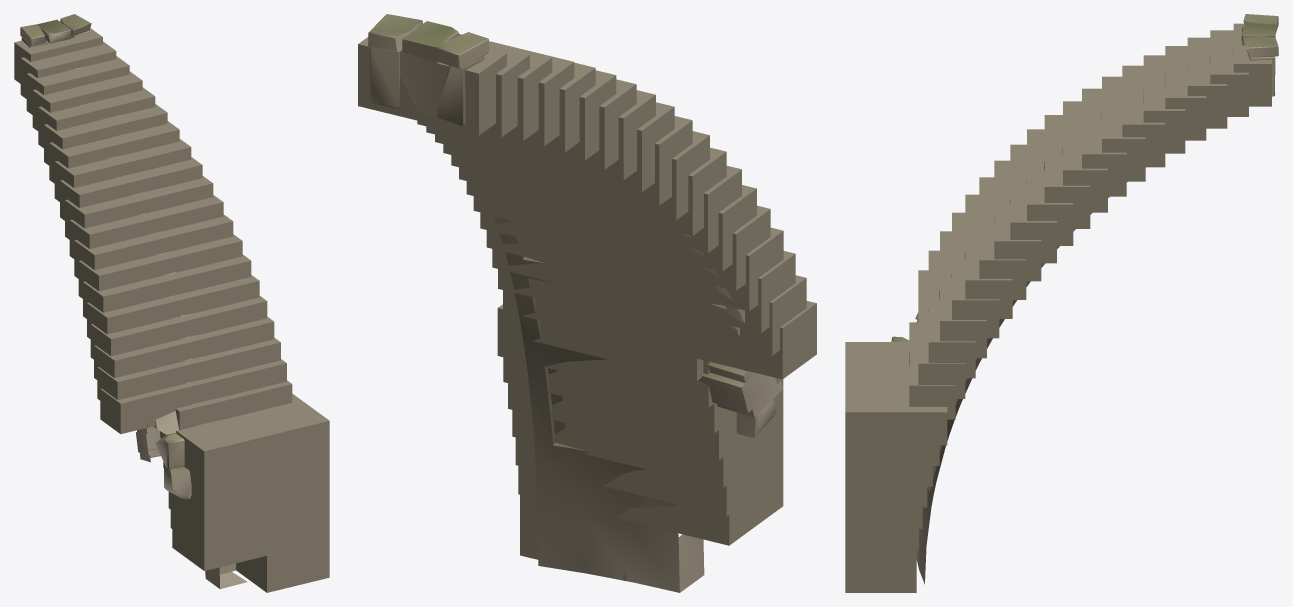
The model's file is dome_shell_bp2.glb.
The picture shows the model from 3 angles, left to right: view 1: azimuth 30°, elevation 25°; view 2: azimuth 150°, elevation 25°; view 3: azimuth 270°, elevation 25°; orthographic projection. The views are drawn at different scales.
Parts seen in each view (by area): view 1: dome_shell_bp2_far, dome_shell_bp2; view 2: dome_shell_bp2_far, dome_shell_bp2; view 3: dome_shell_bp2_far, dome_shell_bp2.
Boxes of the visible parts, x1=… form: dome_shell_bp2_far: x1=14, y1=28, x2=329, y2=592; dome_shell_bp2: x1=20, y1=14, x2=247, y2=589; dome_shell_bp2_far: x1=358, y1=34, x2=816, y2=580; dome_shell_bp2: x1=368, y1=14, x2=782, y2=592; dome_shell_bp2_far: x1=845, y1=23, x2=1271, y2=592; dome_shell_bp2: x1=891, y1=14, x2=1278, y2=584.
Size of the model in its own units: 20.42 by 48.73 by 37.58.
